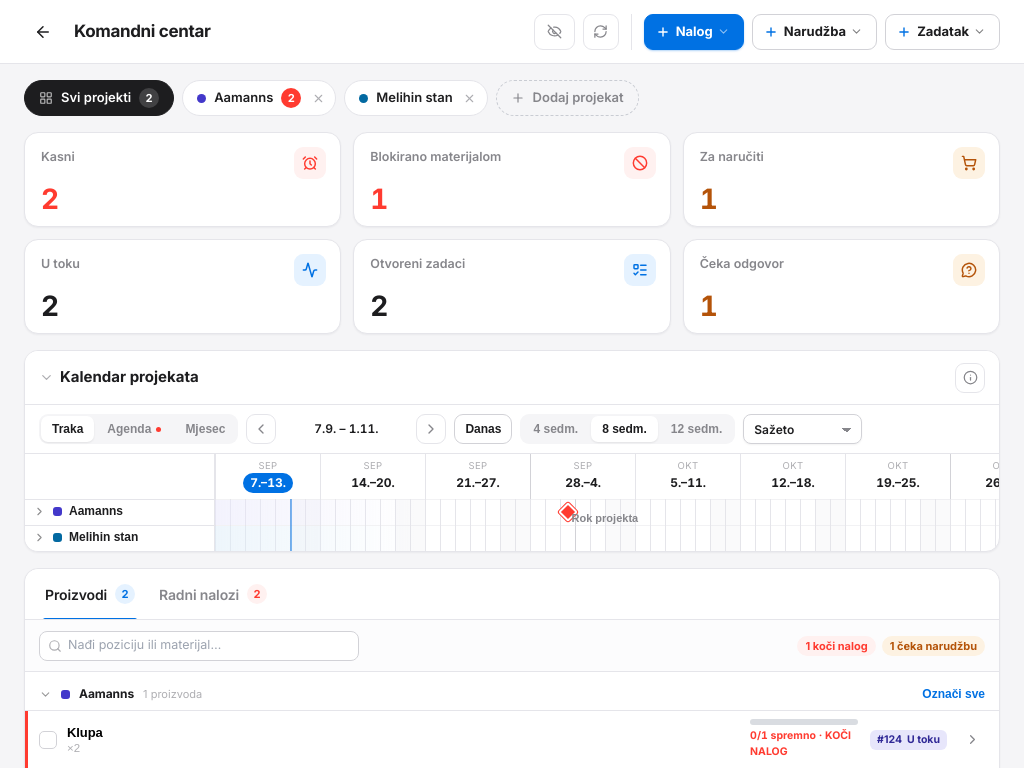
it: agenda stavlja kašnjenje na vrh
Click the button "Agenda": click(134, 429) [96,416,172,442]
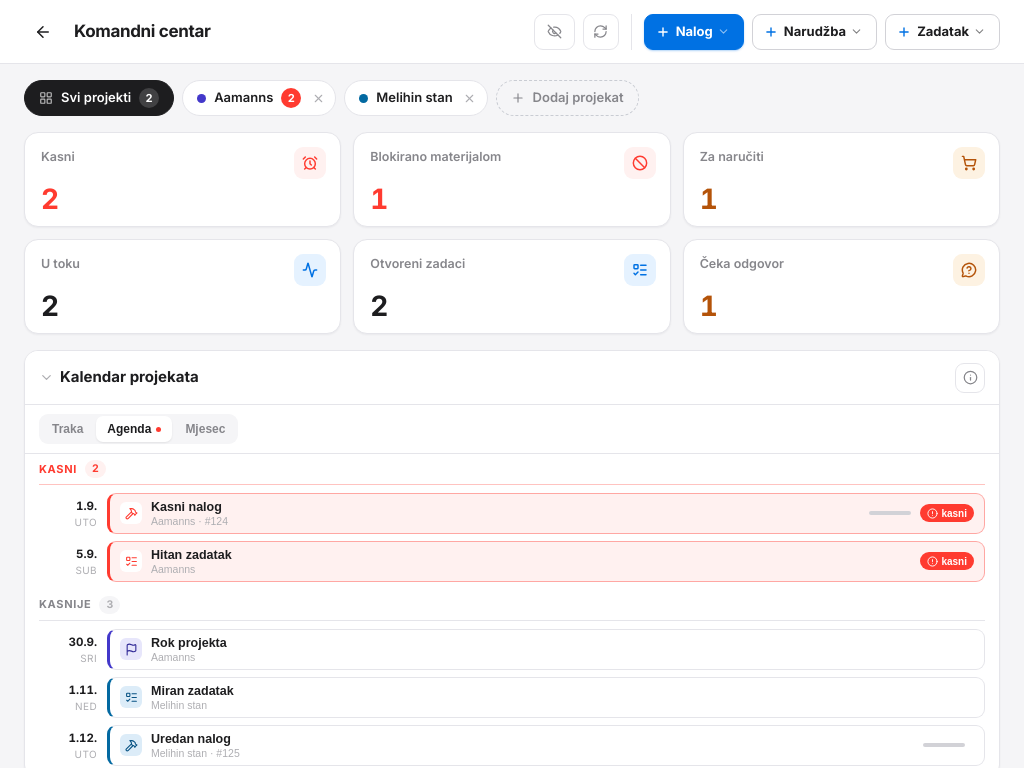
Expected: the text "Kasni nalog" is shown, [151,500,222,514]
Expected: the text "Hitan zadatak" is shown, [151,548,232,562]
